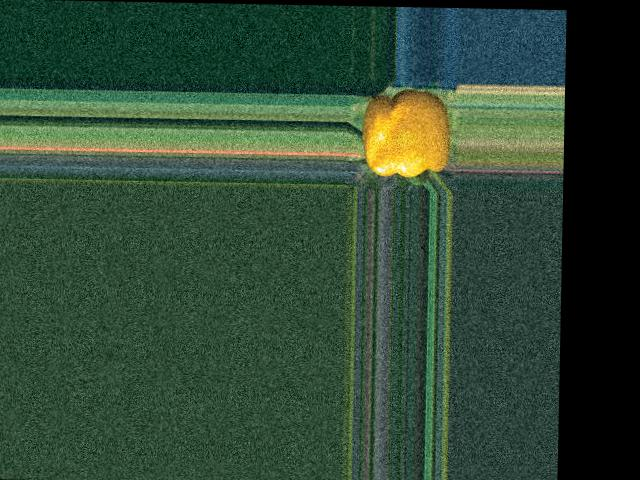bell_pepper: (354, 87, 456, 186)
